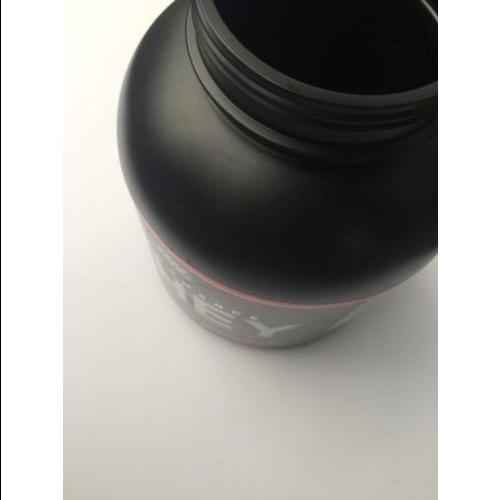plastic: (117, 0, 439, 352)
